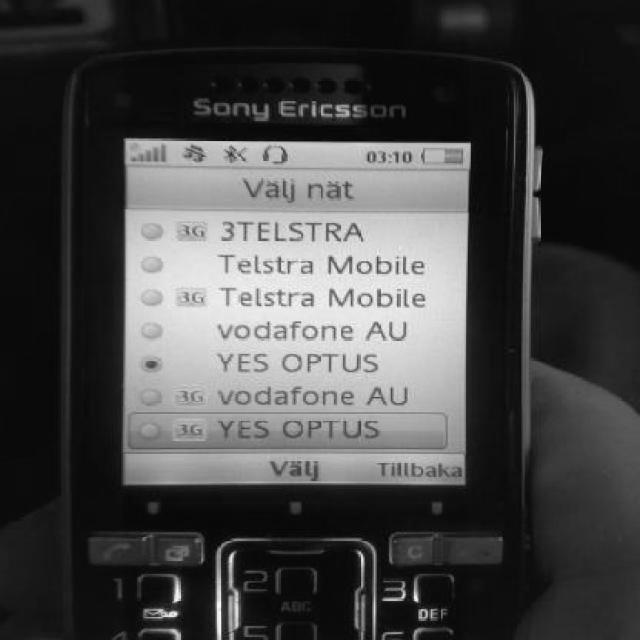fake: (30, 18, 553, 631)
